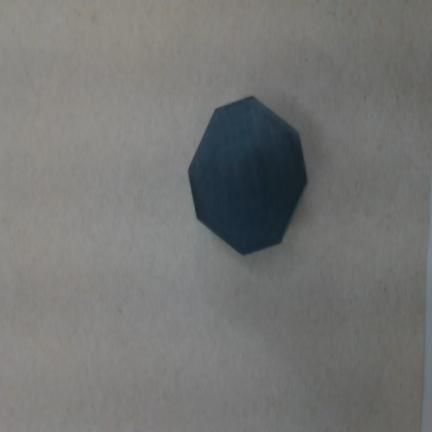Prisma_hexagonal: (188, 95, 308, 256)
